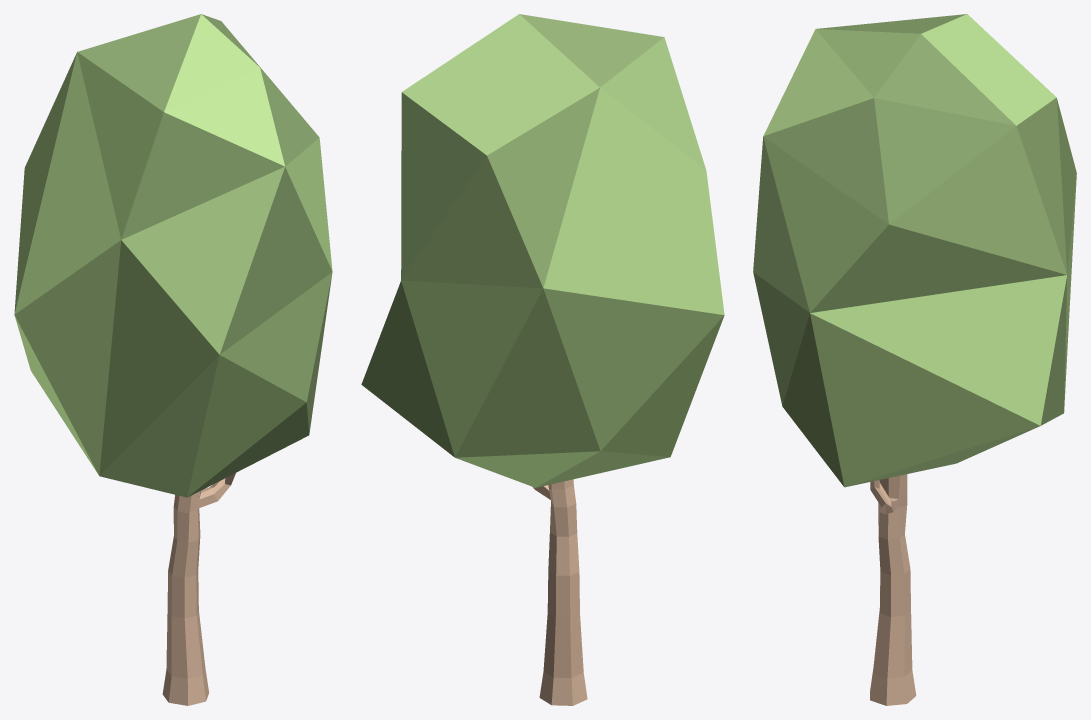
The model's file is Arbol2.fbx.
The picture shows the model from 3 angles, left to right: view 1: azimuth 30°, elevation 25°; view 2: azimuth 150°, elevation 25°; view 3: azimuth 270°, elevation 25°; orthographic projection. The views are drawn at different scales.
Parts seen in each view (by area): view 1: tree_2; view 2: tree_2; view 3: tree_2.
Boxes of the visible parts, x1=… form: tree_2: x1=14, y1=14, x2=332, y2=705; tree_2: x1=361, y1=14, x2=724, y2=705; tree_2: x1=753, y1=14, x2=1076, y2=705.
Size of the model in its own units: 335 by 720 by 312.
